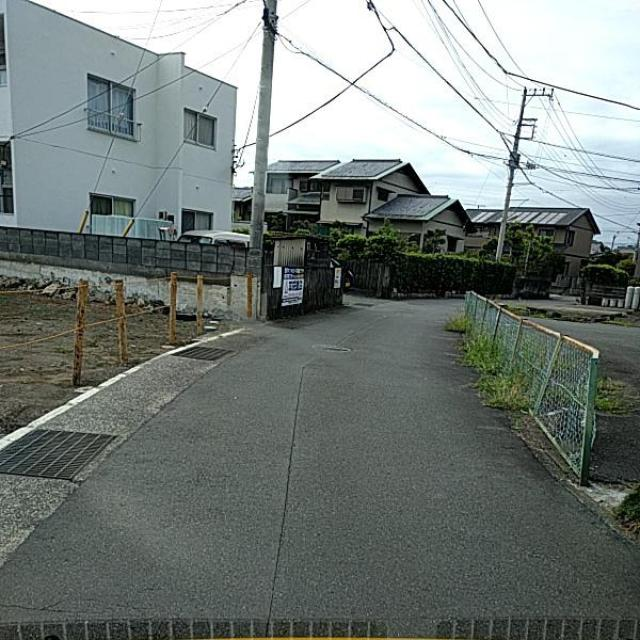Crack: (238, 350, 322, 627)
